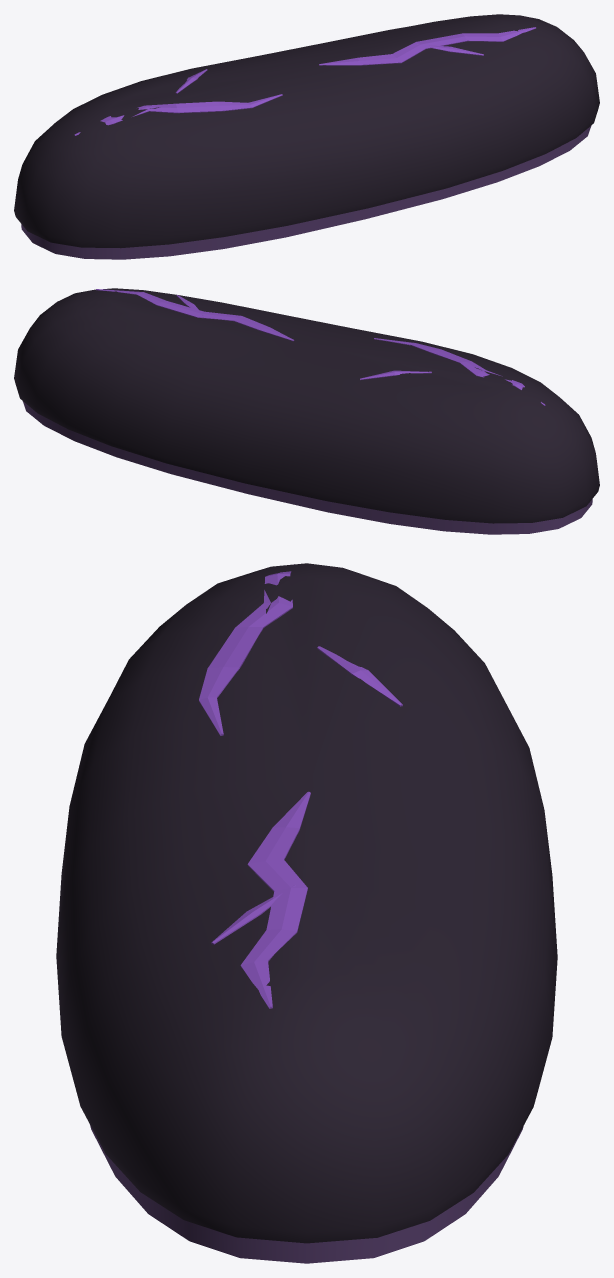
Rendered from Food_BlackBread_Top.fbx.
3 views of the same model, one above another, from view 1: azimuth 30°, elevation 25°; view 2: azimuth 150°, elevation 25°; view 3: azimuth 270°, elevation 25° (orthographic). The views are drawn at different scales.
Parts seen in each view (by area): view 1: Crust, Crumb, Cracks; view 2: Crust, Crumb, Cracks; view 3: Crust, Cracks, Crumb.
Boxes of the visible parts, x1=… form: Crust: x1=14, y1=14, x2=599, y2=248; Crumb: x1=21, y1=125, x2=591, y2=259; Cracks: x1=74, y1=27, x2=536, y2=135; Crust: x1=14, y1=288, x2=599, y2=523; Crumb: x1=22, y1=401, x2=592, y2=534; Cracks: x1=96, y1=289, x2=545, y2=405; Crust: x1=56, y1=563, x2=557, y2=1243; Cracks: x1=199, y1=571, x2=402, y2=1008; Crumb: x1=90, y1=1125, x2=523, y2=1263.
Size of the model in its own units: 220 by 43.66 by 85.
